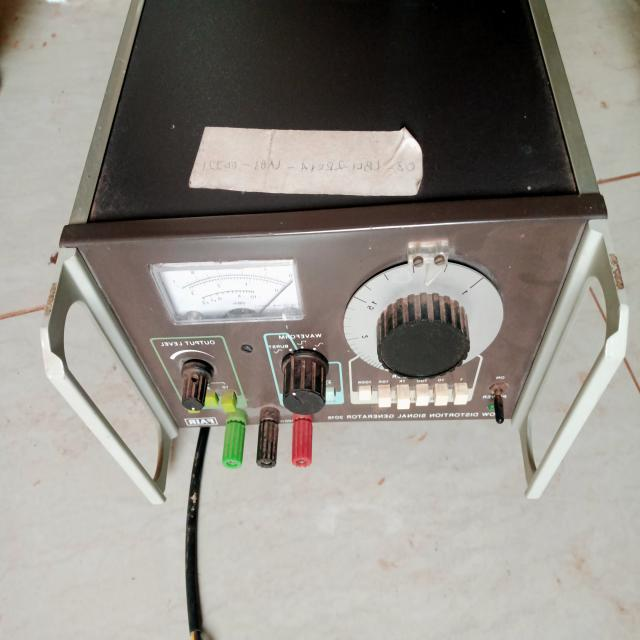Low Distortion Signal Generator: (34, 7, 630, 536)
